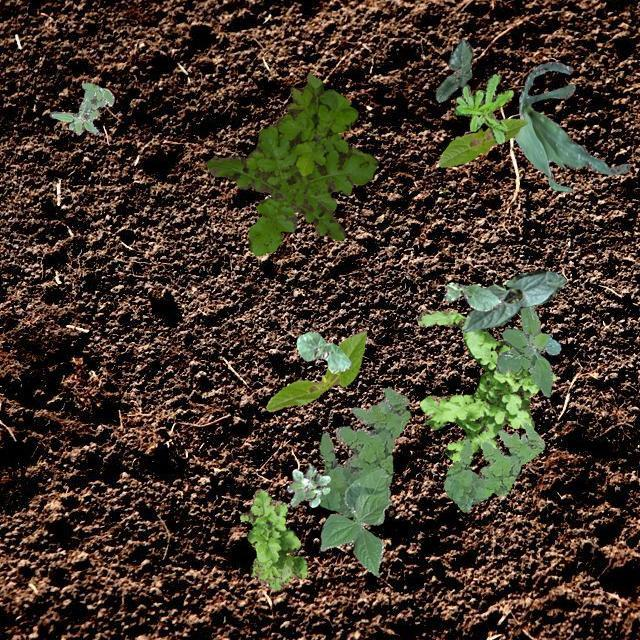crop: (514, 61, 628, 190), (264, 330, 366, 410), (320, 468, 390, 574), (460, 268, 564, 330), (438, 118, 526, 166), (296, 329, 351, 372), (434, 38, 472, 100), (442, 282, 502, 310)
weed: (205, 72, 378, 255), (416, 308, 554, 462), (318, 386, 410, 516), (442, 422, 542, 511), (238, 488, 306, 588), (494, 304, 560, 396), (452, 72, 512, 142), (49, 82, 112, 134), (286, 462, 328, 507)
